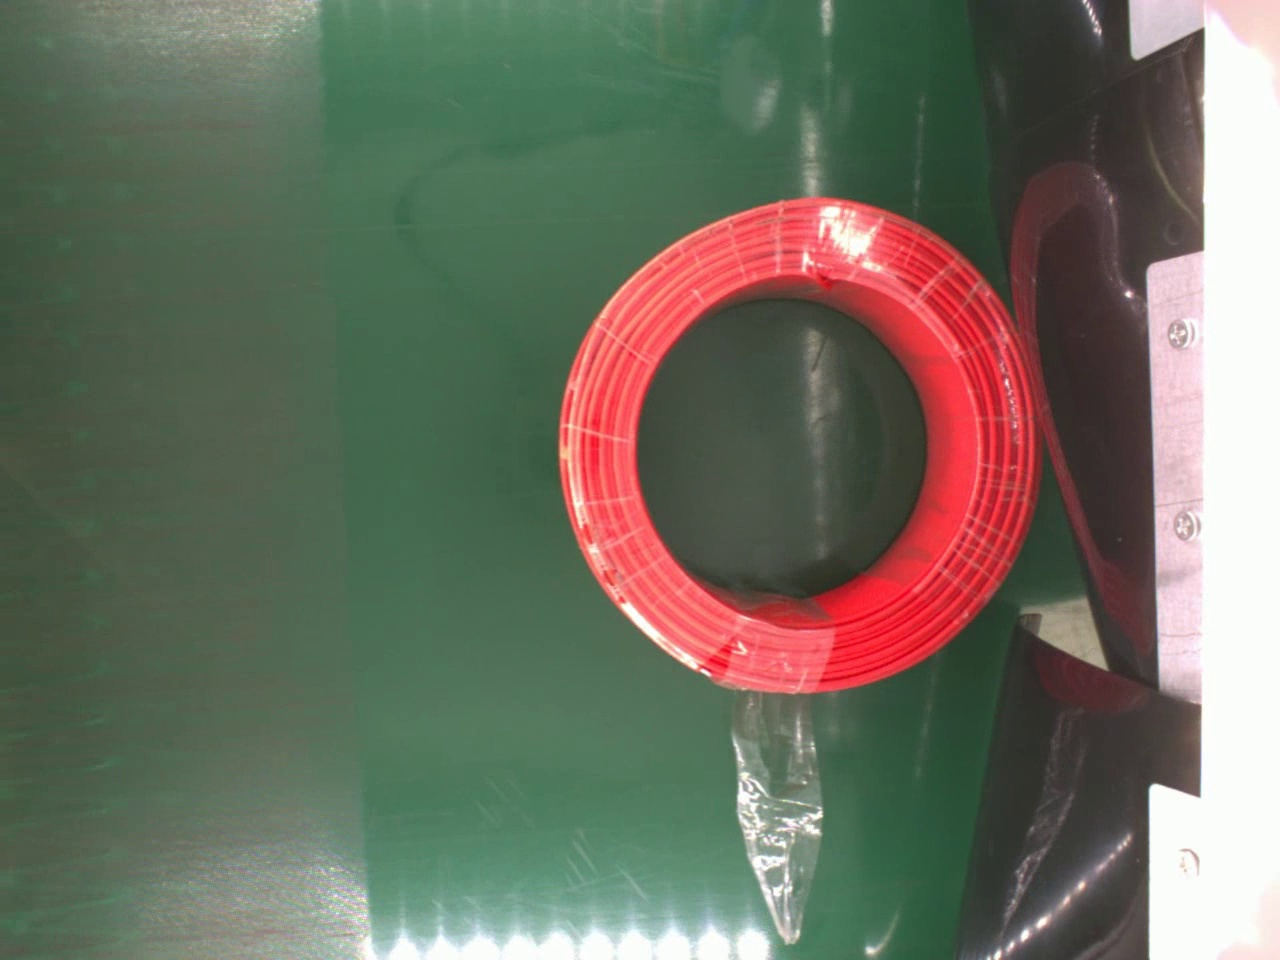red: (540, 191, 1045, 695)
